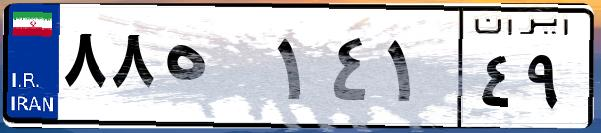1: (270, 28, 330, 110), (385, 28, 445, 110)
4: (330, 28, 385, 110), (475, 38, 525, 113)
8: (57, 26, 110, 100), (110, 28, 158, 98)
9: (525, 38, 570, 115)
ه: (158, 20, 270, 120)
